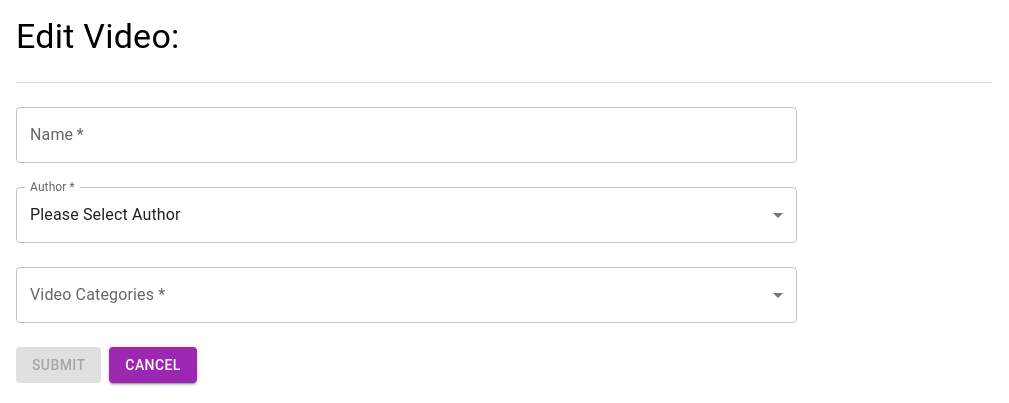
Scenario: Testing VideoAddEdit › Test state changes › Inputing text into video name textField should update the state for name
The image size is (1009, 403).
In the field labelled "Name *": (406, 135) [16, 107, 797, 163], type "new video name"
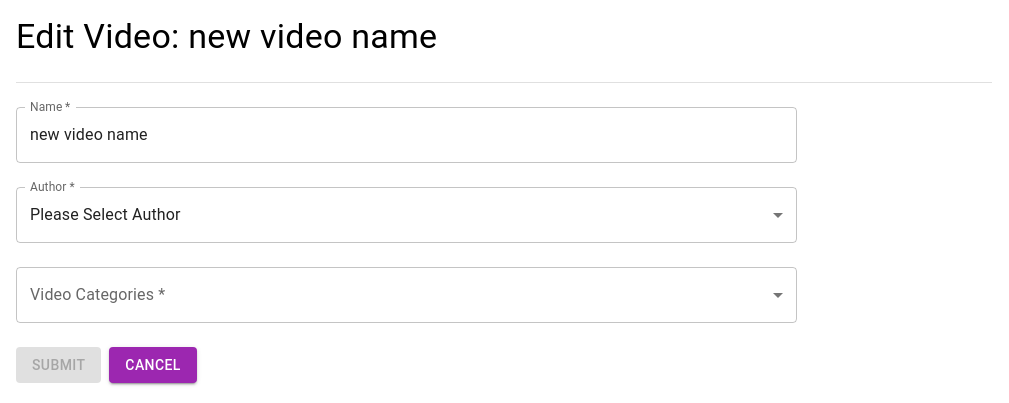
Expected: the heading with test id "page-title" reads "Edit Video: new video name", [16, 16, 437, 56]
